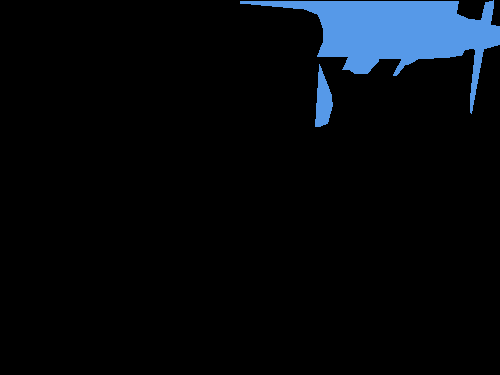Airplane: (240, 0, 500, 126)
